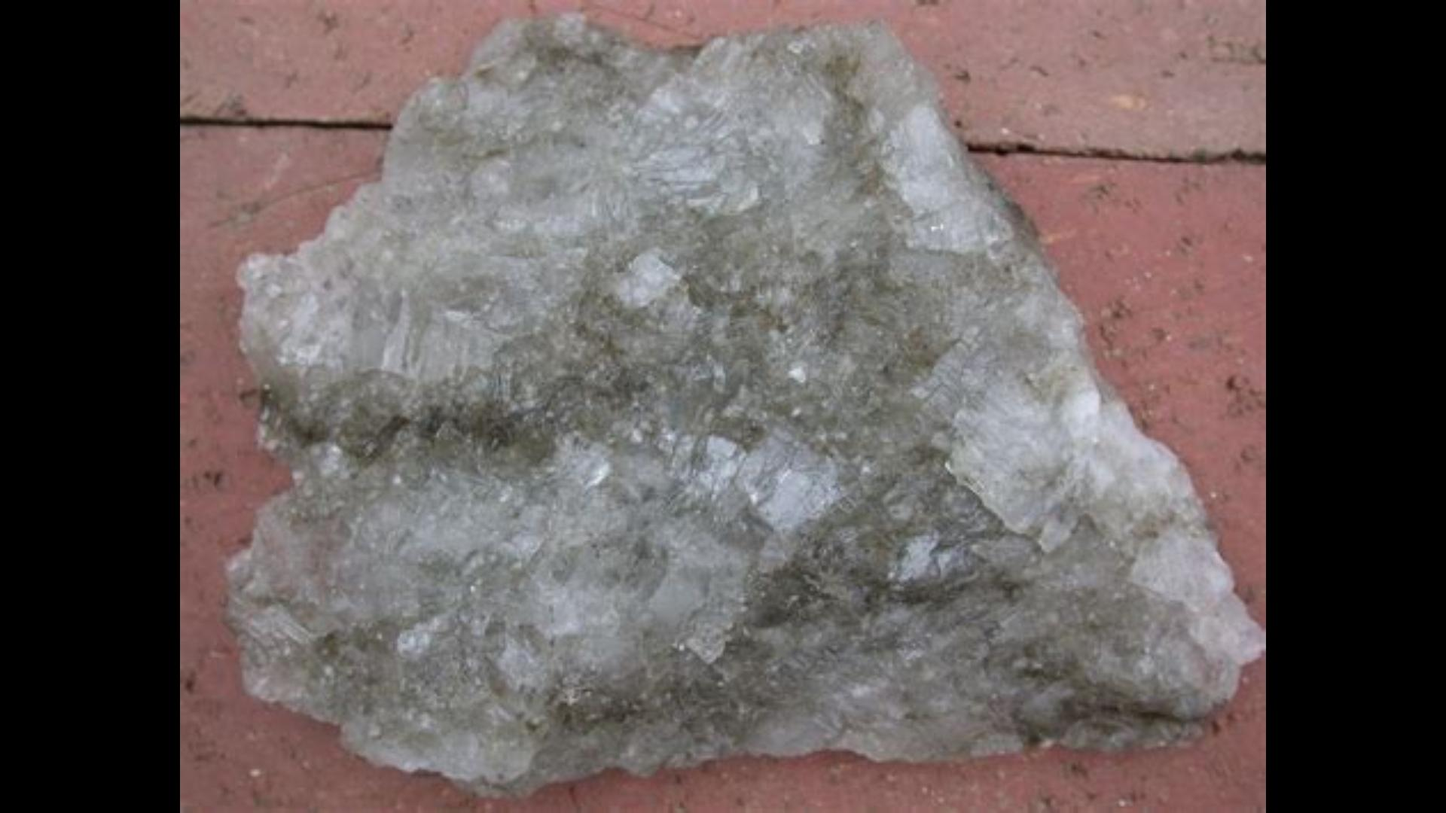rock: (233, 21, 1264, 781)
